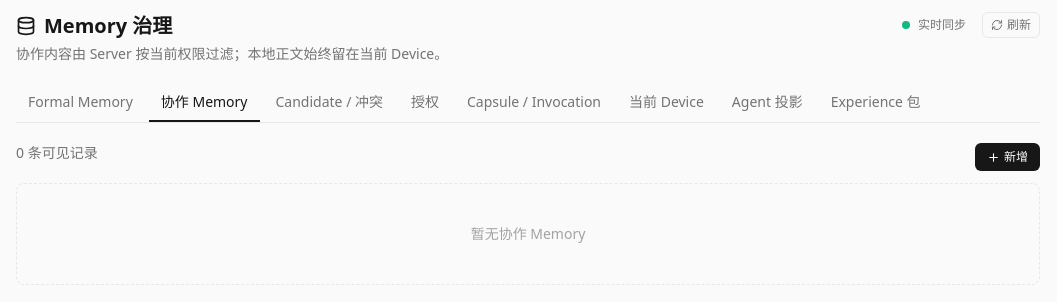
Test: Formal Memory Center (issue #716) › fails closed with access-denied state on FORBIDDEN (AC#5)
This screenshot has width=1057, height=302.
Click the button "Formal Memory".
click(80, 103)  # box x1=16 y1=84 x2=145 y2=122
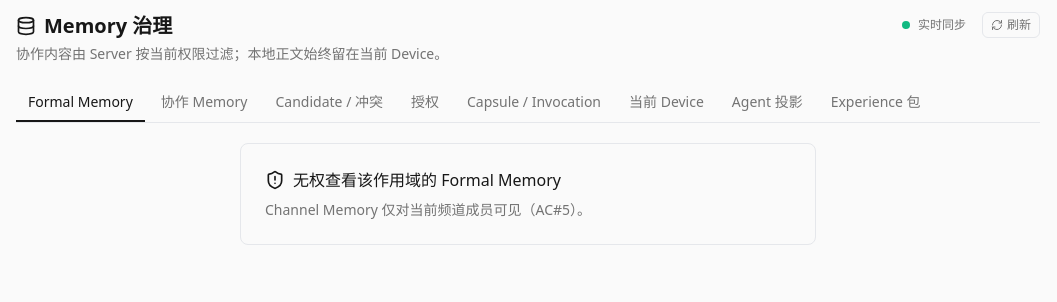
Now the text "无权查看该作用域的 Formal Memory" is shown, box x1=265 y1=169 x2=561 y2=191
